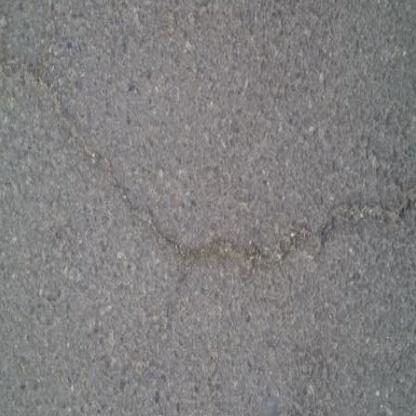Cracks: (0, 8, 416, 289)
